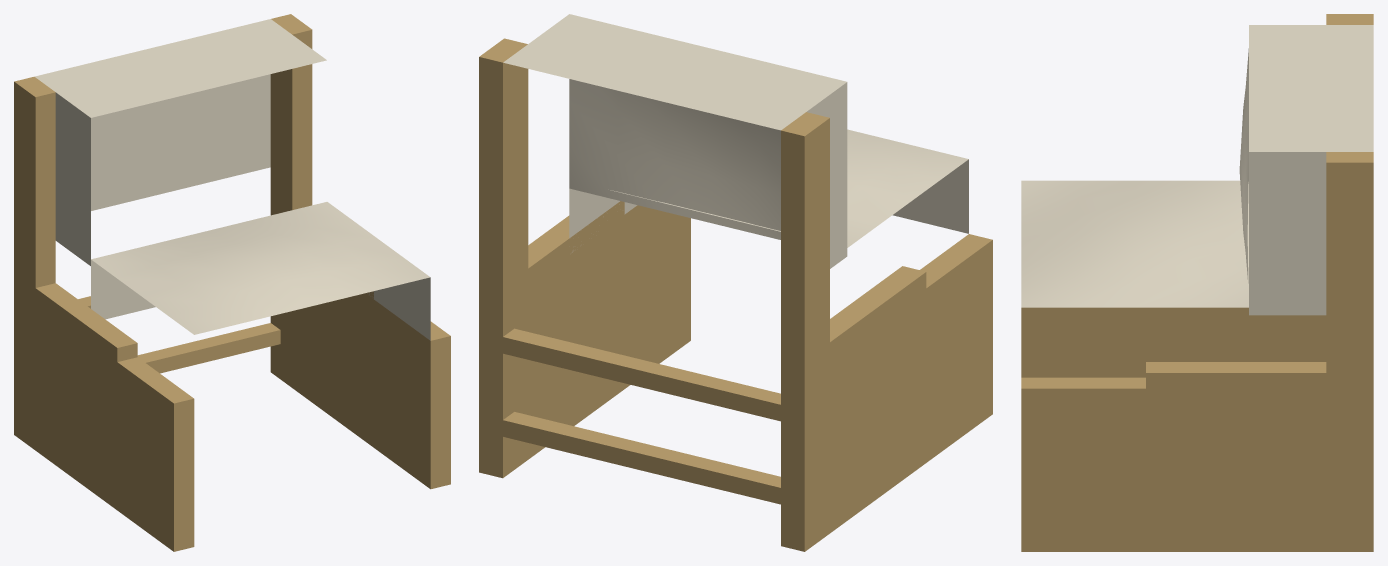
The model's file is ikea-poang.glb.
3 renders of one model, left to right at view 1: azimuth 30°, elevation 25°; view 2: azimuth 150°, elevation 25°; view 3: azimuth 270°, elevation 25°, orthographic. The views are drawn at different scales.
Size of the model in its own units: 0.82 by 1 by 0.82.
